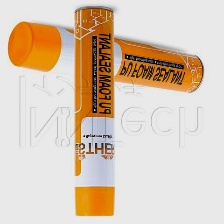aerosol_cans: (5, 19, 207, 96), (65, 4, 120, 219)
